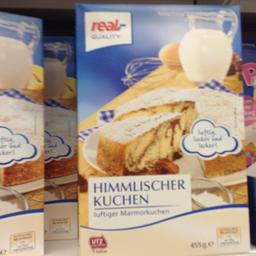cake: (74, 0, 248, 254)
